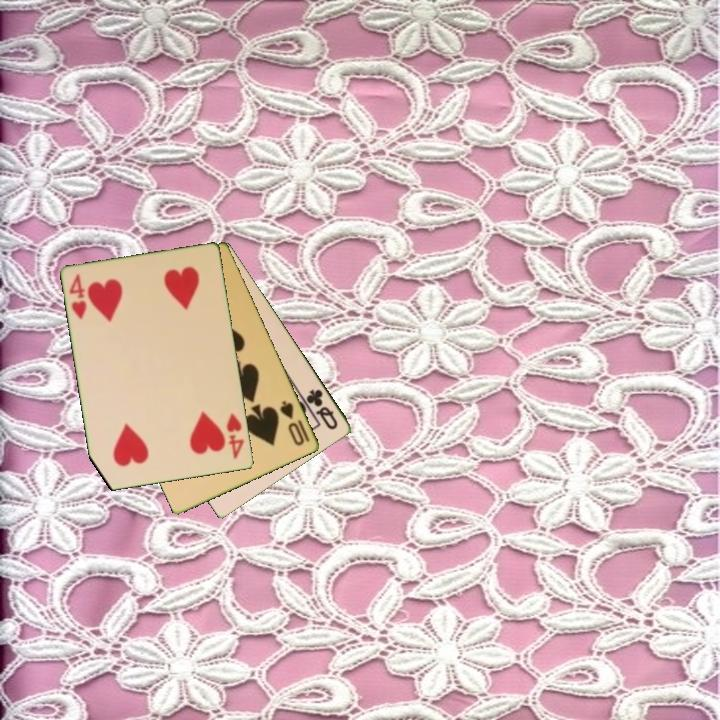10s: (277, 397, 313, 449)
4h: (66, 270, 90, 323), (223, 410, 247, 462)
Qc: (303, 385, 341, 433)
